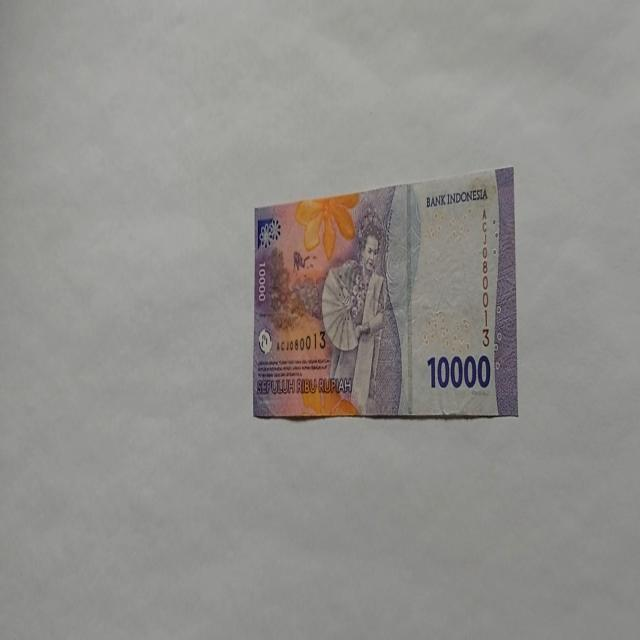sepuluh ribu rupiah: (252, 165, 518, 422)
